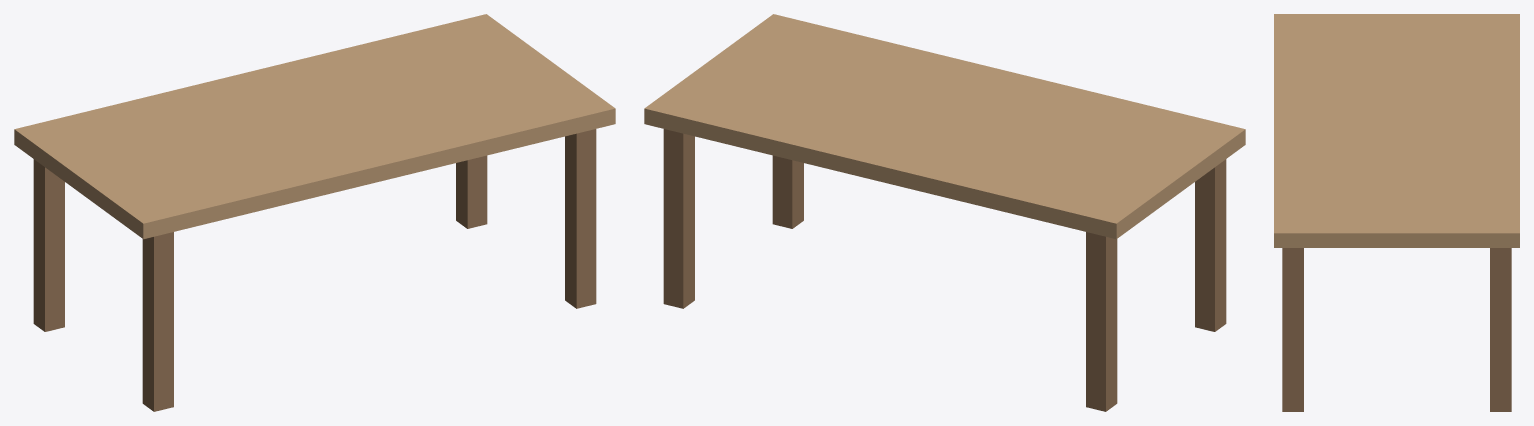
File: table.glb
The picture shows the model from 3 angles, left to right: view 1: azimuth 30°, elevation 25°; view 2: azimuth 150°, elevation 25°; view 3: azimuth 270°, elevation 25°; orthographic projection. The views are drawn at different scales.
Visible parts, largest first — view 1: table; view 2: table; view 3: table.
Boxes of the visible parts, box(x1,y1,x2,y2) form: table: box(14, 14, 615, 411); table: box(644, 14, 1245, 411); table: box(1274, 14, 1519, 411).
Bounding box in the file's own units: 1.9 × 0.75 × 0.9.
